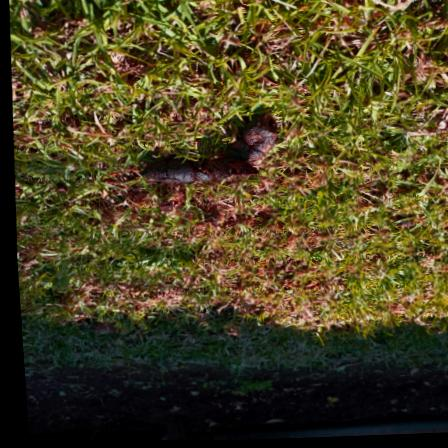dog-poop: (120, 109, 293, 195)
